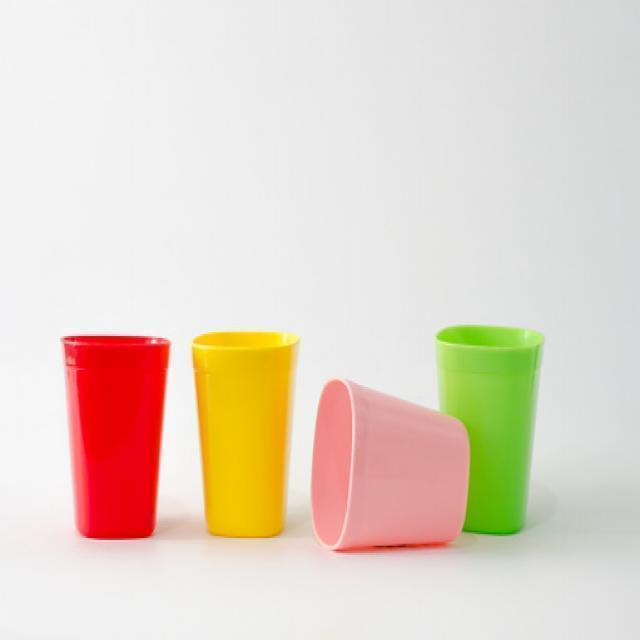Plastic: (310, 372, 470, 578), (430, 322, 542, 534), (61, 332, 169, 542), (190, 327, 296, 538)
